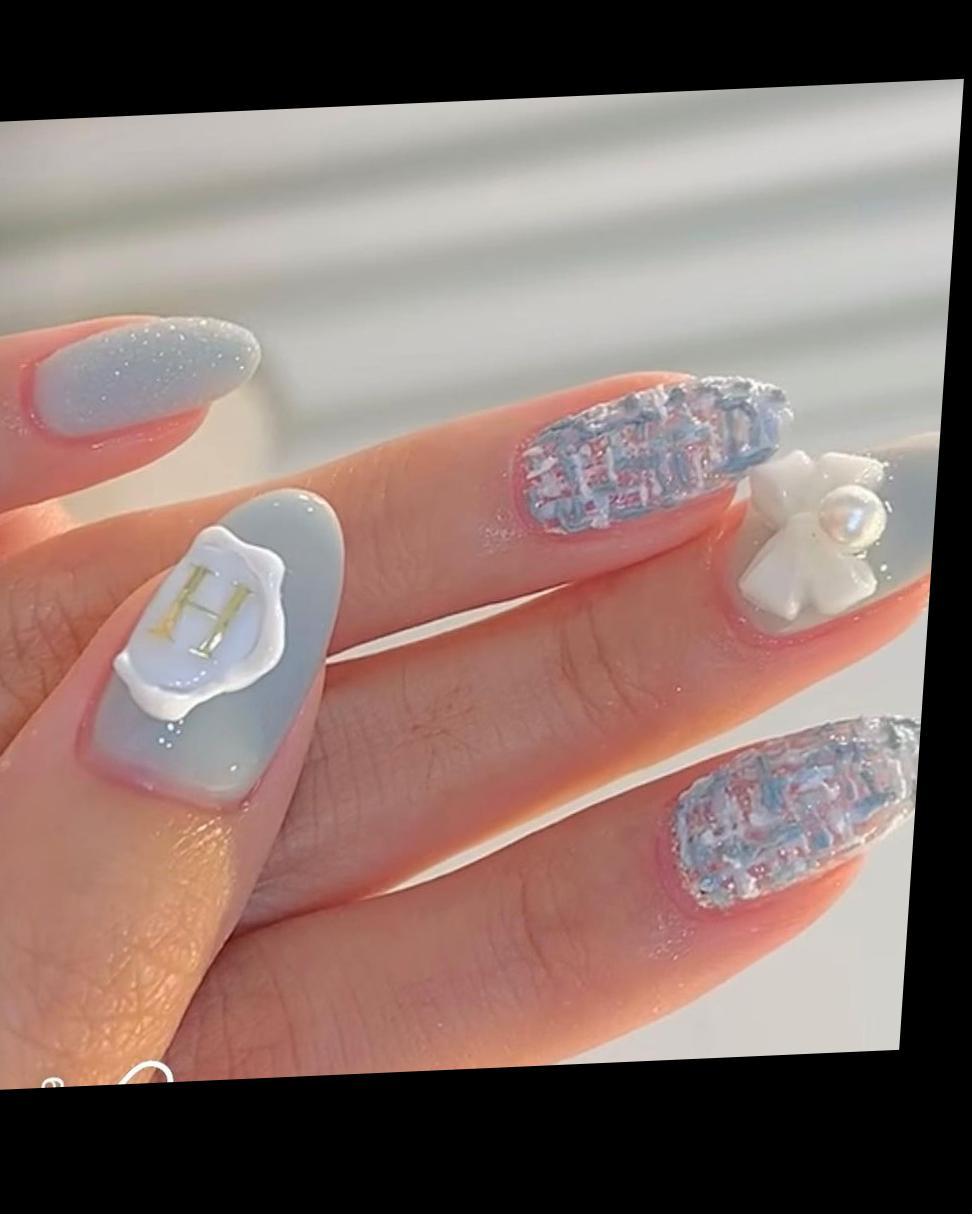nail: (72, 481, 354, 819), (662, 710, 922, 914), (511, 367, 799, 539), (733, 427, 941, 629), (18, 308, 268, 444)
